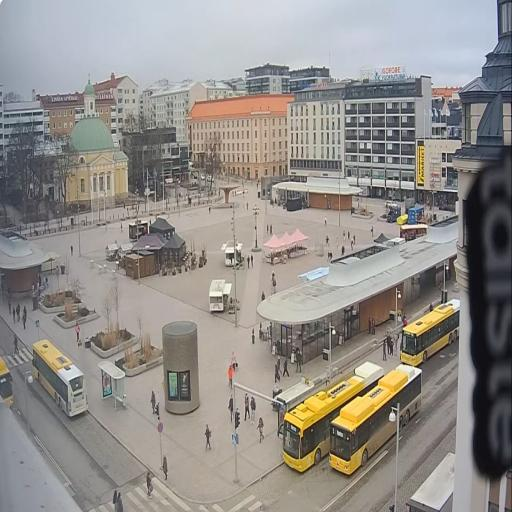bus: (278, 357, 386, 476), (329, 365, 423, 476), (30, 337, 89, 422), (400, 300, 458, 366), (0, 358, 15, 416)
car: (206, 176, 215, 184), (191, 172, 198, 177), (200, 174, 204, 182)
delivery: (190, 161, 196, 170)
